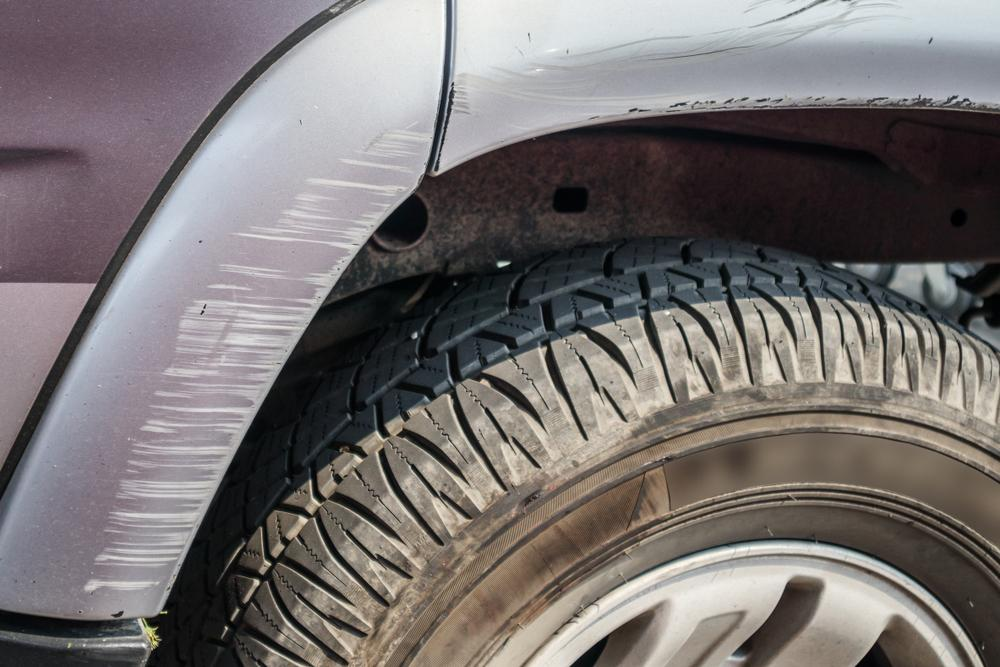scratch: (82, 106, 434, 603), (433, 0, 1000, 171)
